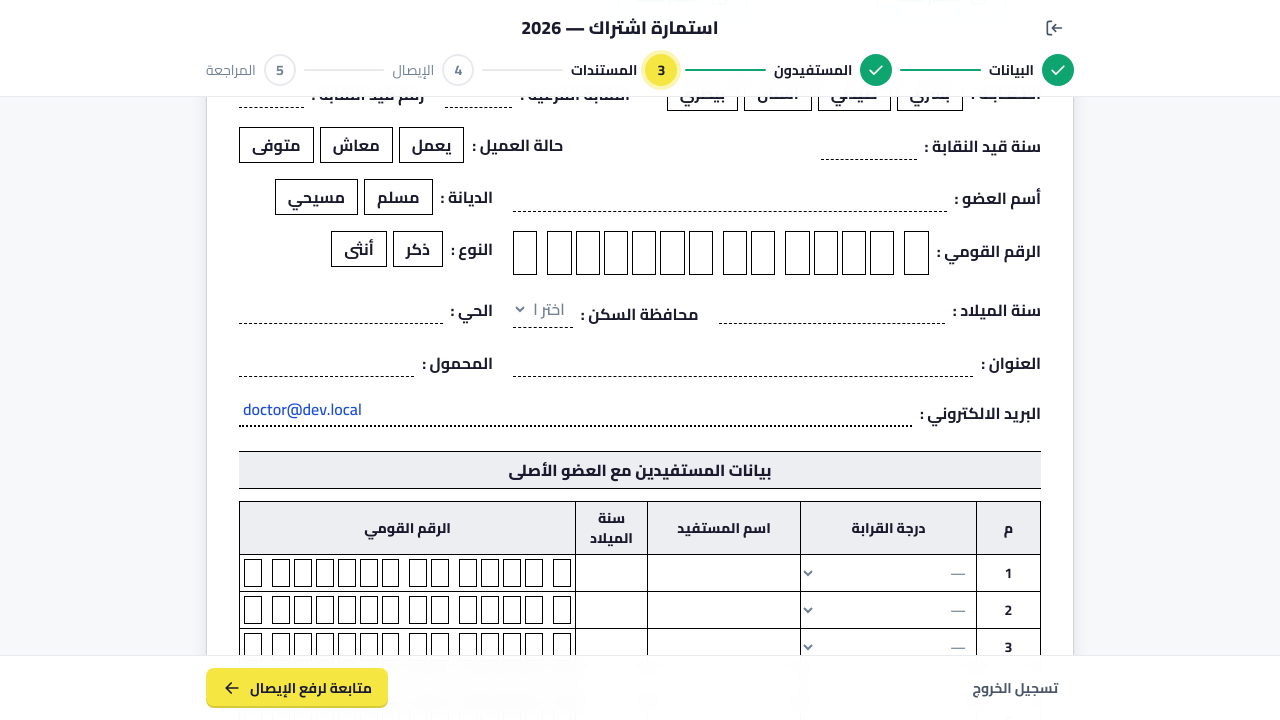
Test case: FormPage (PROMPT.md §9) › offers a retry when saving failed
(page scrolled)
Type "ش" into the field labelled "العنوان :" at (743, 360), box [513,344,973,377]
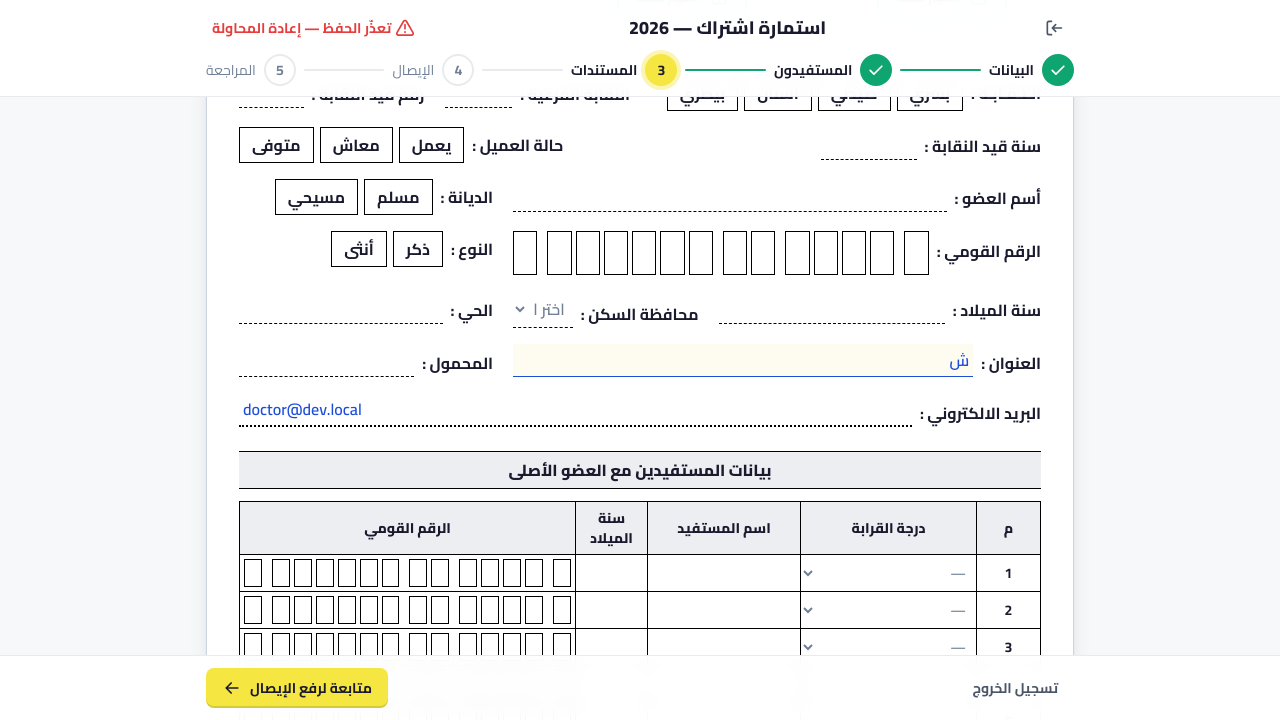
Click the button "تعذّر الحفظ — إعادة المحاولة" at (314, 28), box [206,14,421,42]
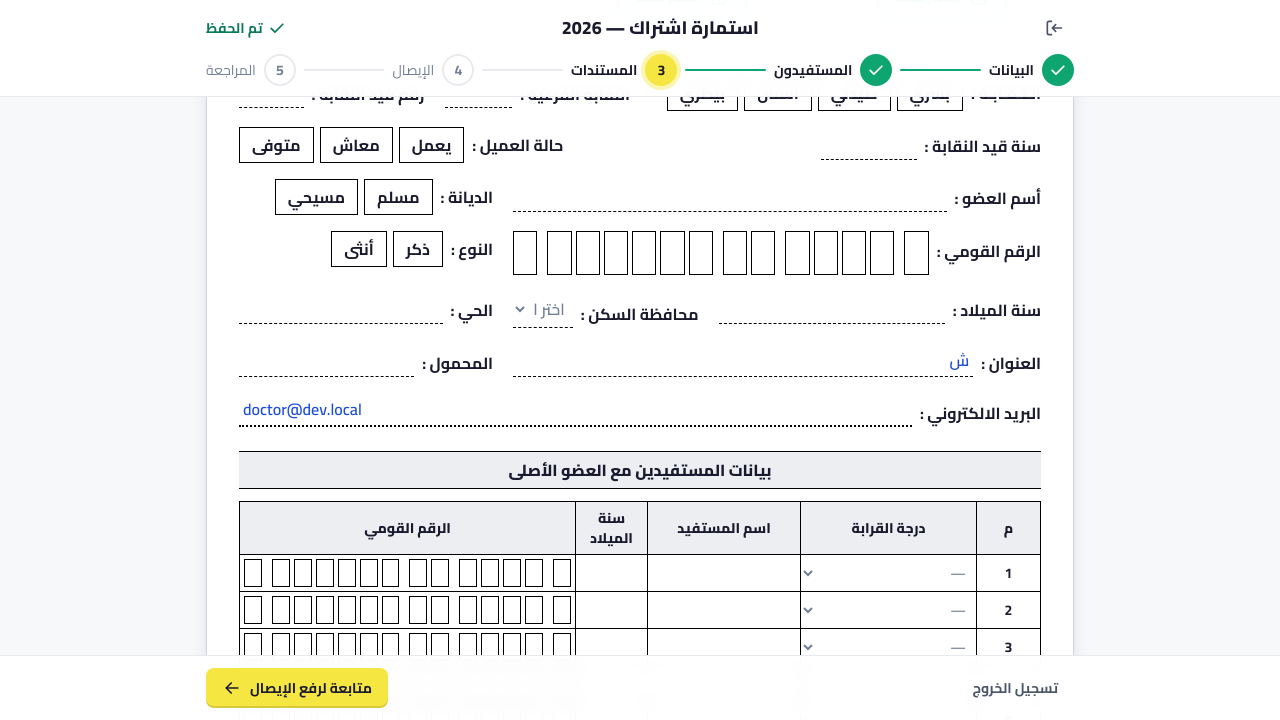
expect the text "تم الحفظ" is shown: met, box [206,18,287,38]
